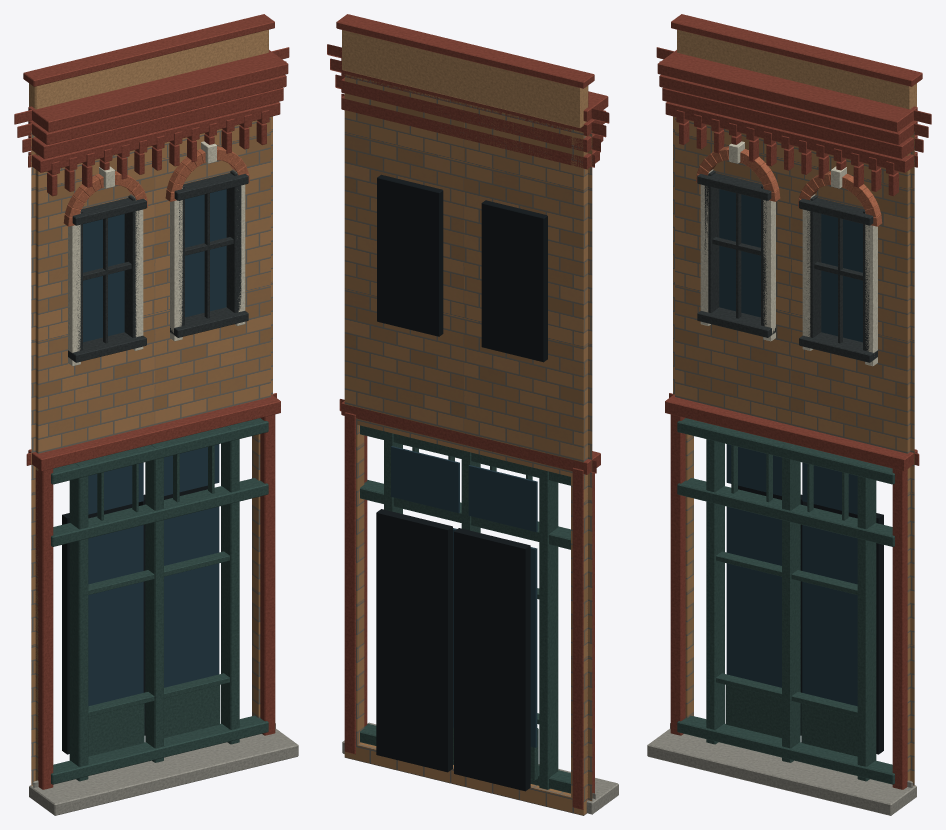
File: BUSS1_lod1.glb
3 renders of one model, left to right at view 1: azimuth 30°, elevation 25°; view 2: azimuth 150°, elevation 25°; view 3: azimuth 330°, elevation 25°, orthographic. The views are drawn at different scales.
Visible parts, largest first — view 1: BUSS1_FRONT_LOD1; view 2: BUSS1_FRONT_LOD1; view 3: BUSS1_FRONT_LOD1.
Part boxes in pixels (x1,y1,x2,y2): BUSS1_FRONT_LOD1: [14, 14, 298, 815]; BUSS1_FRONT_LOD1: [327, 14, 618, 815]; BUSS1_FRONT_LOD1: [647, 14, 931, 815].
Size of the model in its own units: 3.78 by 9.44 by 1.
Materials: 11 (9 with a texture image).
